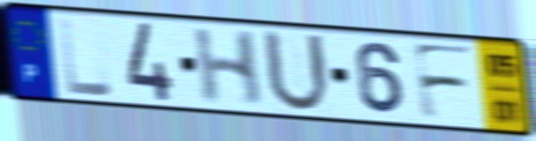4: (125, 20, 176, 105)
6: (354, 39, 407, 118)
F: (409, 40, 477, 123)
H: (190, 26, 265, 109)
L: (56, 15, 117, 99)
U: (260, 27, 334, 117)
